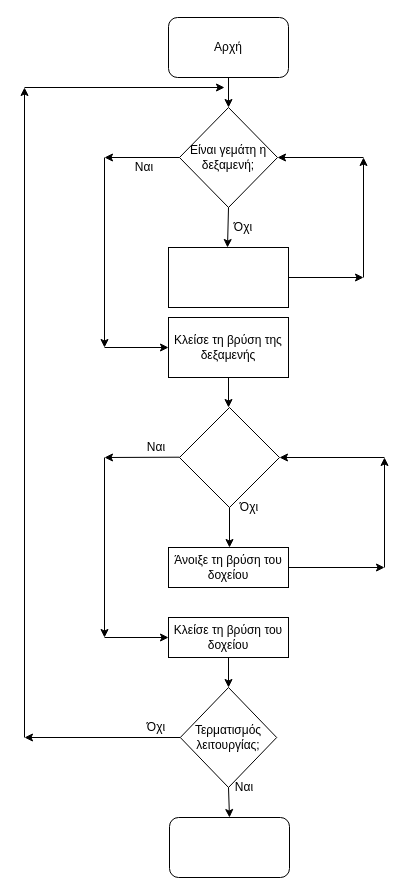
This 410x895 diagram has some shape labels left out. The centre of each missing label's shape, as x and y in pixels:
"Άνοιξε τη βρύση της δεξαμενής" belongs at point 228,277.
"Είναι γεμάτο το δοχείο;" belongs at point 229,457.
"Τέλος" belongs at point 229,847.
